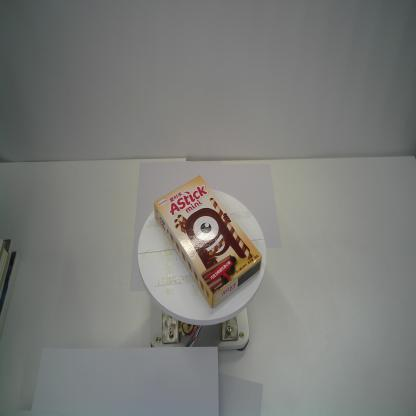Dessert: (154, 175, 262, 309)
